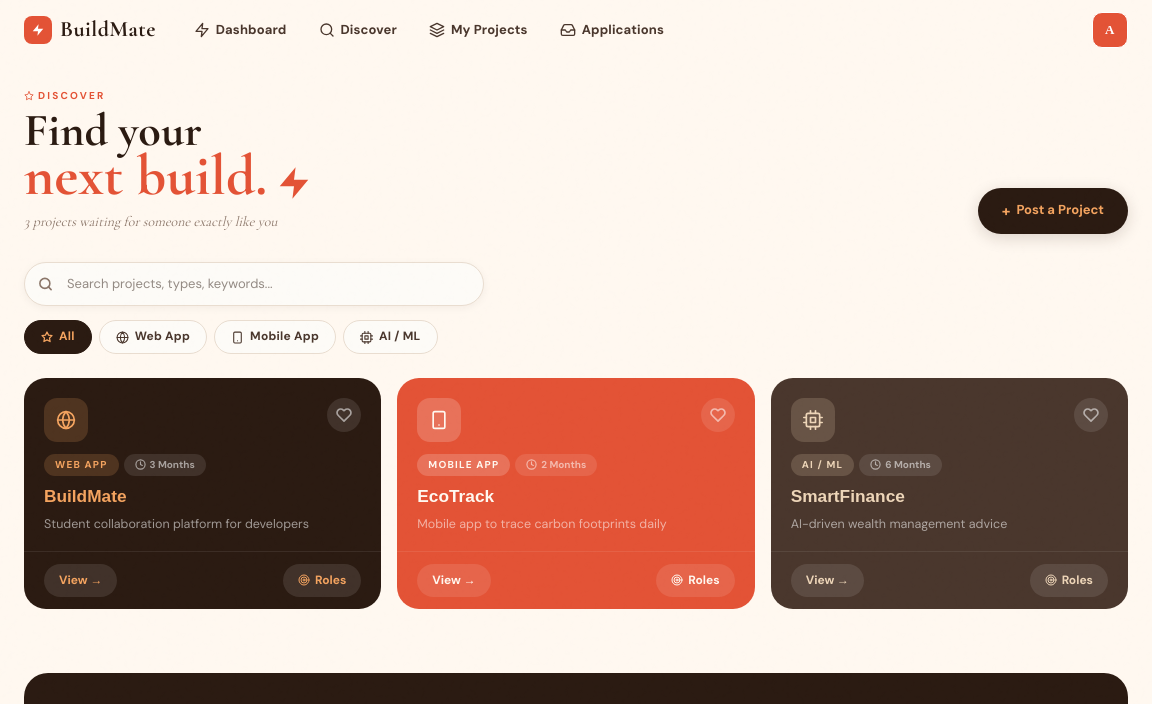
ProjectSwipe › handles application errors by displaying error toast
Click the button "Roles" below "3 Months" at (322, 580), box [283,564,361,597]
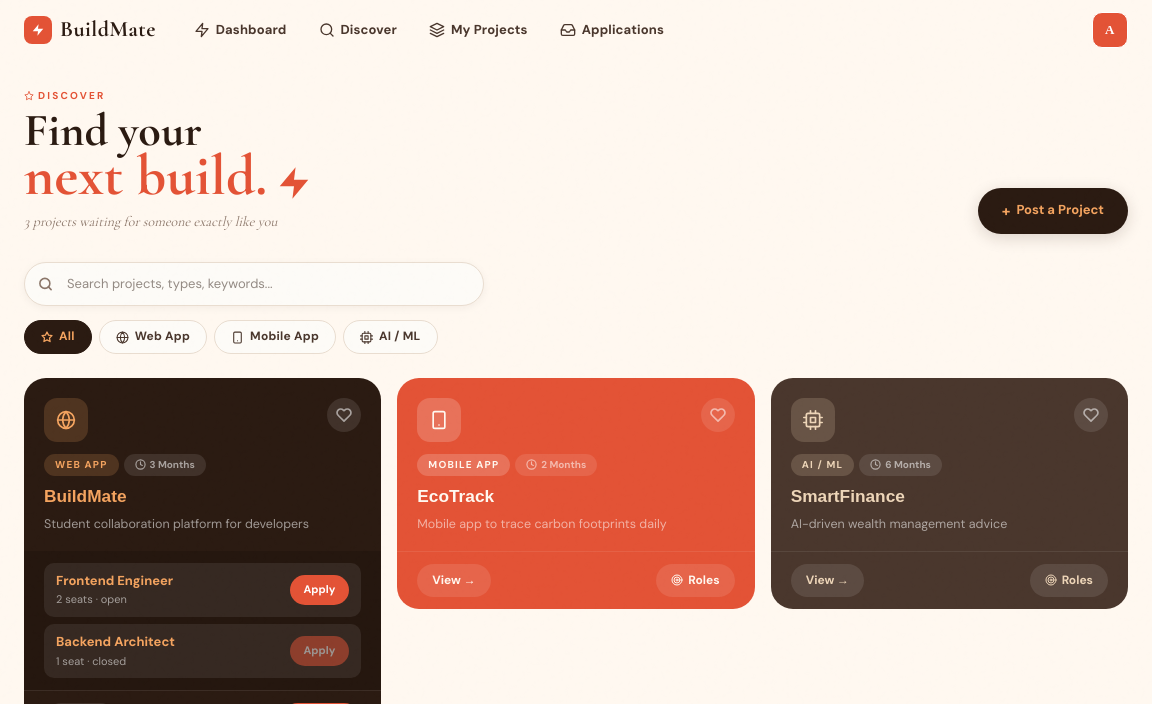
Click the button "Apply" next to "Frontend Engineer" at (319, 590), box [290,575,349,605]
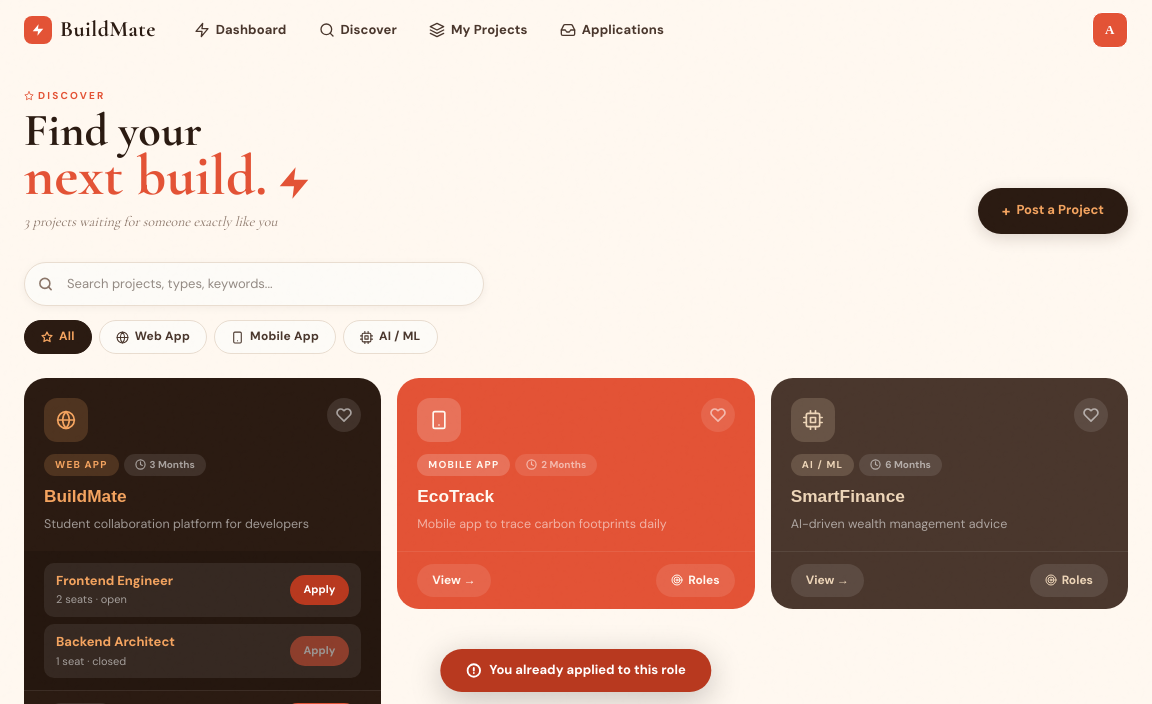
expect the text "You already applied to this role" is shown: met, box [489,660,686,681]
